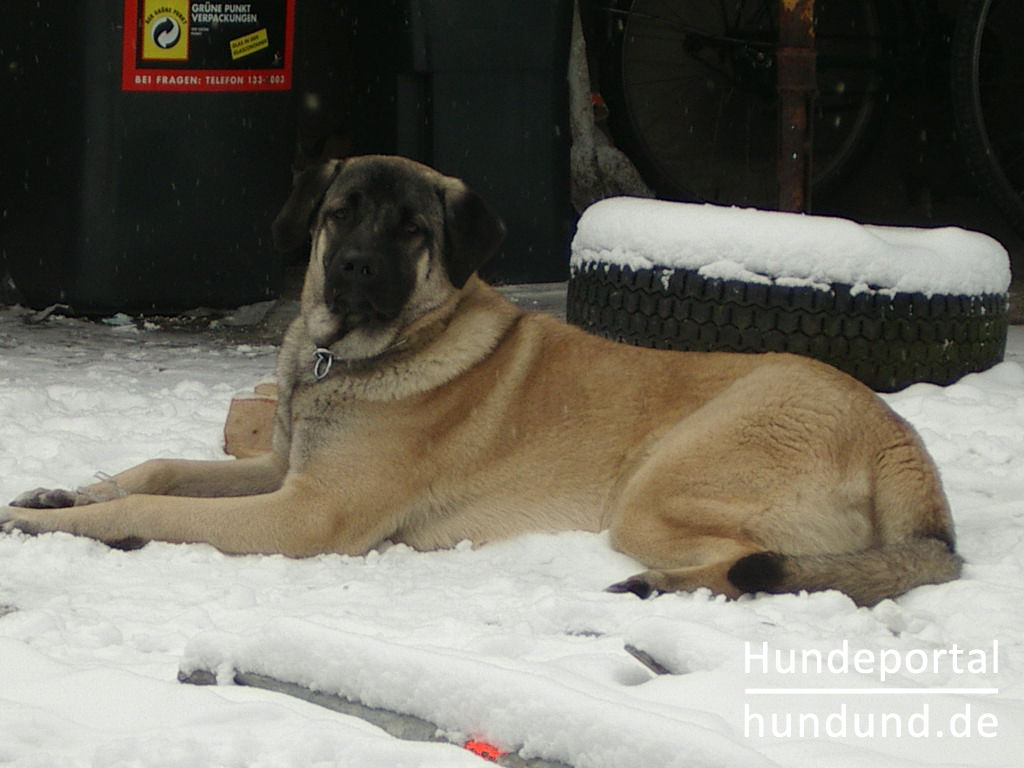kangal: (0, 153, 964, 610)
